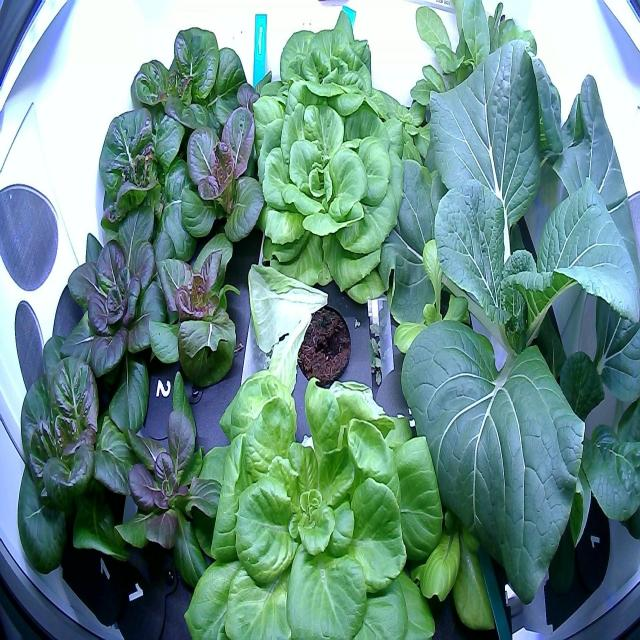Ready: (172, 360, 450, 640), (243, 87, 421, 309), (244, 1, 412, 156)
pod: (286, 286, 359, 396)
young: (14, 316, 158, 580), (102, 353, 244, 609), (41, 198, 182, 431), (90, 100, 222, 278), (129, 204, 252, 395), (121, 18, 255, 181), (156, 95, 272, 262), (390, 228, 491, 369), (366, 72, 463, 172)
